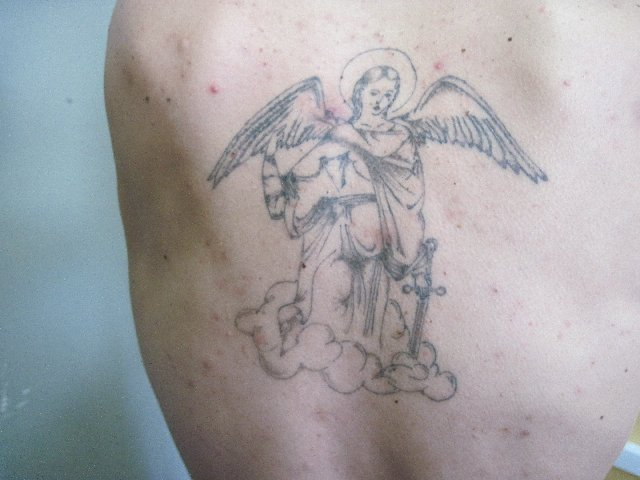tatu1_angel: (203, 37, 555, 346)
